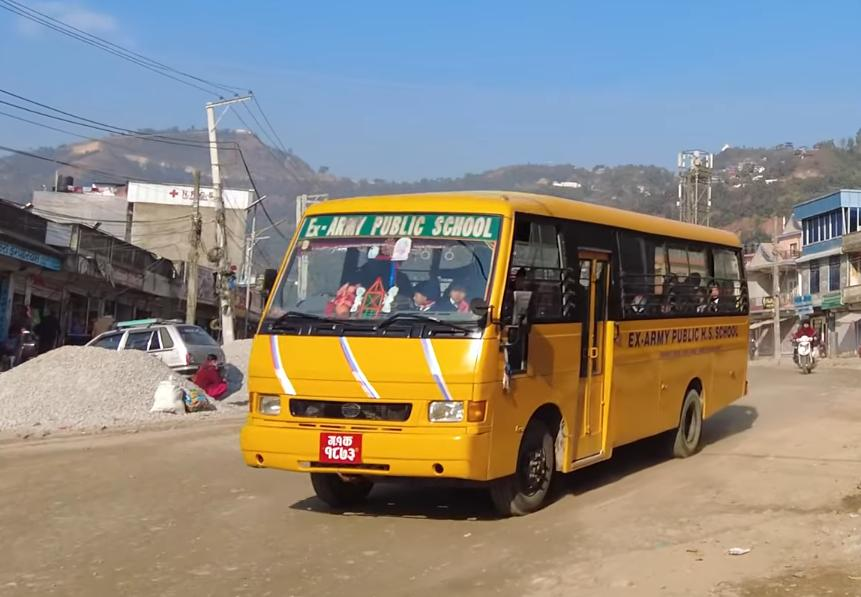school_bus: (234, 188, 752, 528)
scooter: (789, 331, 825, 378)
